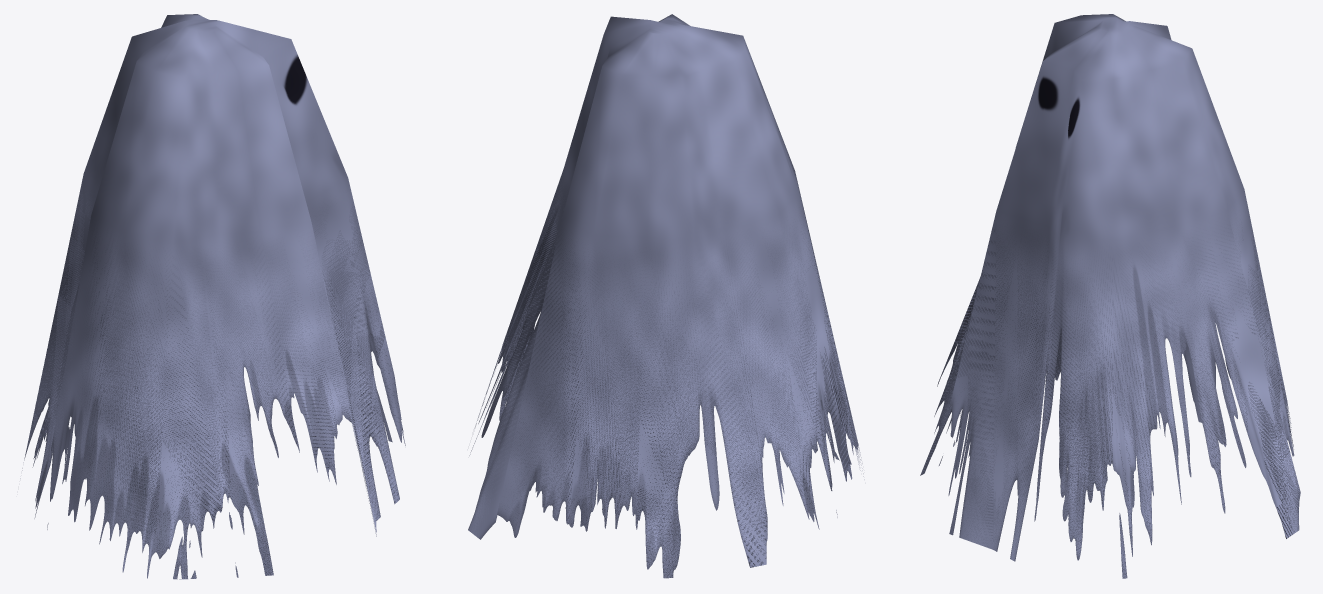
Rendered from おばけ 1.fbx.
3 views of the same model, side by side, from view 1: azimuth 30°, elevation 25°; view 2: azimuth 150°, elevation 25°; view 3: azimuth 270°, elevation 25° (orthographic).
Visible parts, largest first — view 1: 円; view 2: 円; view 3: 円.
Boxes of the visible parts, x1,y1,x2,y2 form: 円: (20, 14, 405, 579); 円: (468, 14, 864, 578); 円: (920, 14, 1300, 578).
Bounding box in the file's own units: 214 × 269 × 214.
